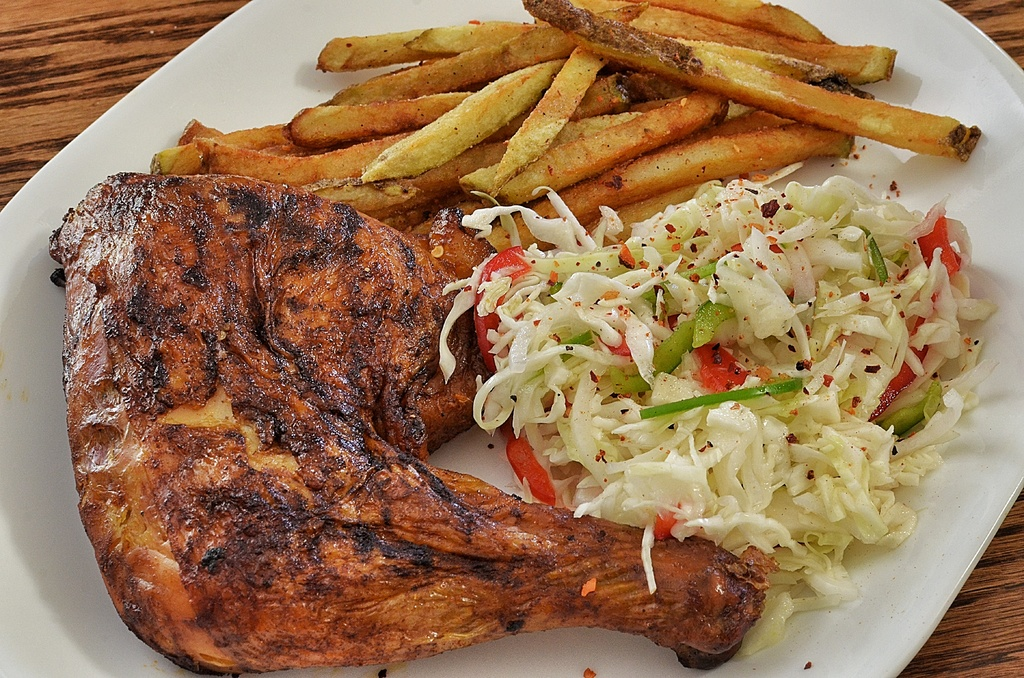French fries: (225, 7, 988, 214)
